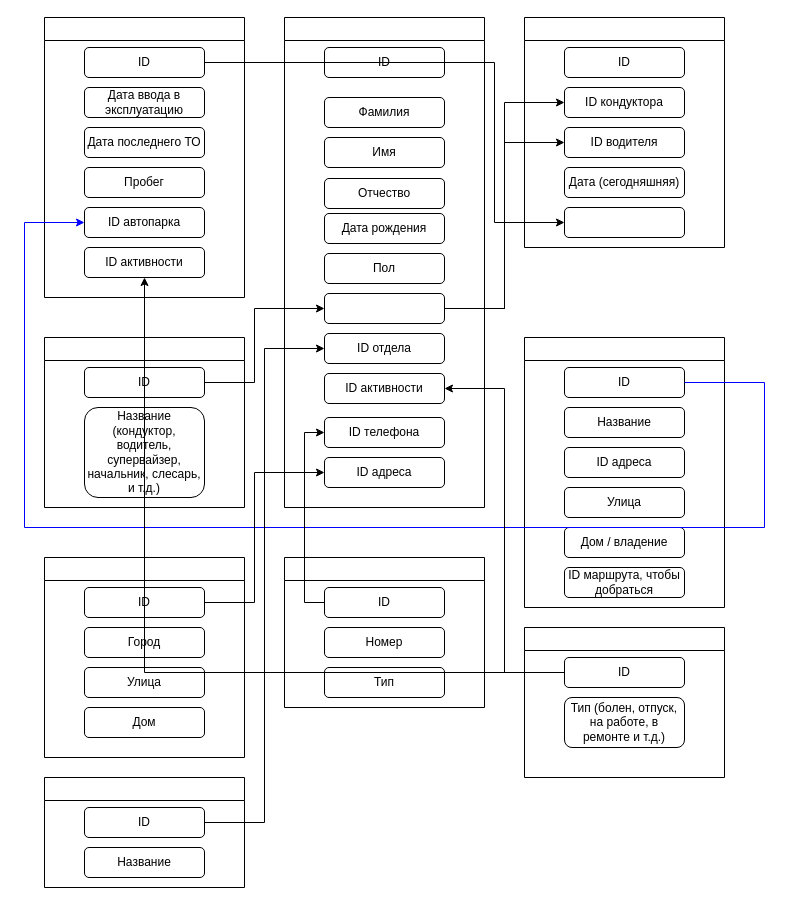
Some shapes in this 790 by 905 pixel diagram are drawn without their labels. Here are the shapes that lost their labels. From the top down, the box of each, then its label:
(524, 16, 724, 248): Маршрут
(44, 16, 244, 298): Автобусы
(564, 206, 684, 238): ID автобуса
(284, 16, 484, 508): Люди
(324, 292, 444, 324): ID должности
(44, 336, 244, 508): Должности
(524, 336, 724, 608): Автопарки
(284, 556, 484, 708): Телефоны
(44, 556, 244, 758): Адреса
(524, 626, 724, 778): Активность
(44, 776, 244, 888): Отделы
